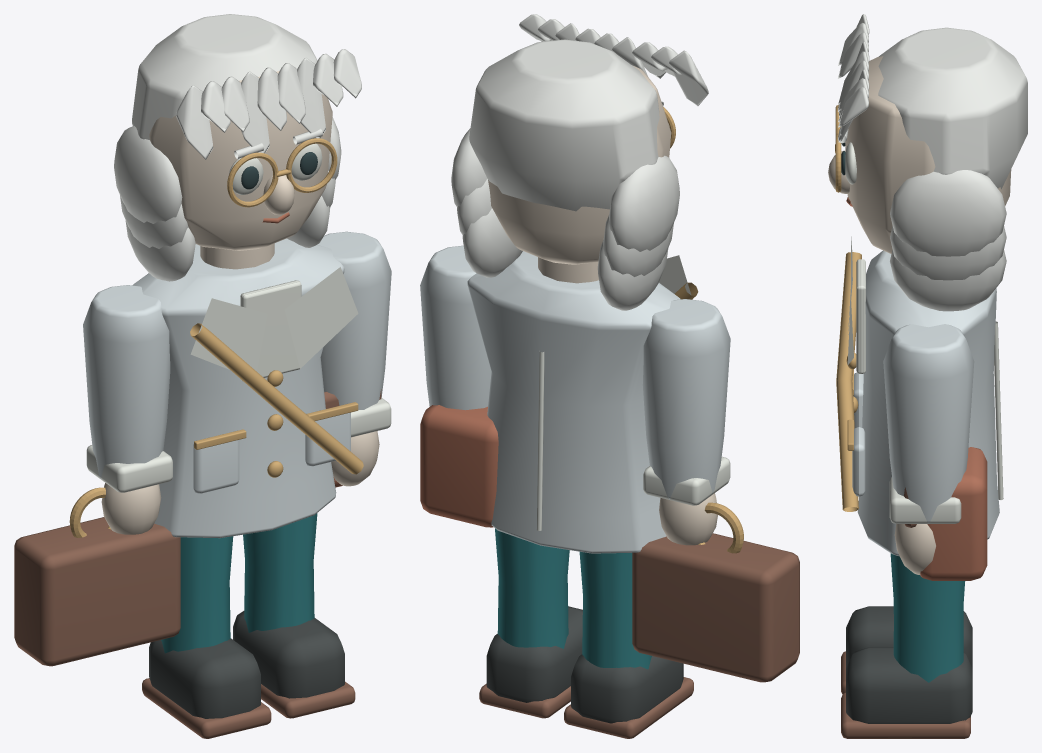
The model's file is cataloguer.glb.
3 views of the same model, side by side, from view 1: azimuth 30°, elevation 25°; view 2: azimuth 150°, elevation 25°; view 3: azimuth 270°, elevation 25° (orthographic).
Parts seen in each view (by area): view 1: Coat.003_batch, Hair.003_batch, Walnut.003_batch.002, Skin.003_batch, Coat.003_batch.001, Shirt.003_batch, Coat.003_batch.002, Accessory.003_batch, Enamel teal.003_batch.001, Boots.003_batch, Boots.003_batch.001, Enamel teal.003_batch (+7 smaller); view 2: Hair.003_batch, Coat.003_batch, Walnut.003_batch.002, Coat.003_batch.001, Coat.003_batch.002, Oxide leather.003_batch, Skin.003_batch, Enamel teal.003_batch.001, Enamel teal.003_batch, Boots.003_batch, Boots.003_batch.001, Skin.003_batch.001 (+5 smaller); view 3: Hair.003_batch, Coat.003_batch, Coat.003_batch.002, Skin.003_batch, Boots.003_batch.001, Enamel teal.003_batch.001, Oxide leather.003_batch, Accessory.003_batch, Shirt.003_batch, Boots.003_batch, Walnut.003_batch.001, Shirt.003_batch.002 (+1 smaller).
Part boxes in pixels (x1,y1,x2,y2): Coat.003_batch: (133,238,350,538); Hair.003_batch: (114,14,361,281); Walnut.003_batch.002: (14,389,381,666); Skin.003_batch: (149,71,332,269); Coat.003_batch.001: (83,285,170,478); Shirt.003_batch: (190,143,358,381); Coat.003_batch.002: (317,231,391,409); Accessory.003_batch: (69,138,363,537); Enamel teal.003_batch.001: (243,513,317,632); Boots.003_batch: (149,638,260,718); Boots.003_batch.001: (233,611,344,698); Enamel teal.003_batch: (161,536,233,653); Hair.003_batch: (451,14,708,310); Coat.003_batch: (467,251,680,553); Walnut.003_batch.002: (632,533,799,682); Coat.003_batch.001: (642,299,730,499); Coat.003_batch.002: (420,245,491,410); Oxide leather.003_batch: (420,405,498,527); Skin.003_batch: (488,65,671,283); Enamel teal.003_batch.001: (495,528,569,648); Enamel teal.003_batch: (579,551,651,669); Boots.003_batch: (571,654,683,723); Boots.003_batch.001: (486,606,582,702); Skin.003_batch.001: (659,493,717,545); Hair.003_batch: (838,14,1027,311); Coat.003_batch: (852,250,999,556); Coat.003_batch.002: (883,324,974,523); Skin.003_batch: (828,56,1011,253); Boots.003_batch.001: (846,647,972,723); Enamel teal.003_batch.001: (890,553,965,682); Oxide leather.003_batch: (846,197,987,580); Accessory.003_batch: (835,105,861,511); Shirt.003_batch: (845,142,1003,499); Boots.003_batch: (846,606,972,668); Walnut.003_batch.001: (841,692,970,738); Shirt.003_batch.002: (889,477,961,523).
Bounding box in the file's own units: 1.28 × 2.23 × 0.615.
